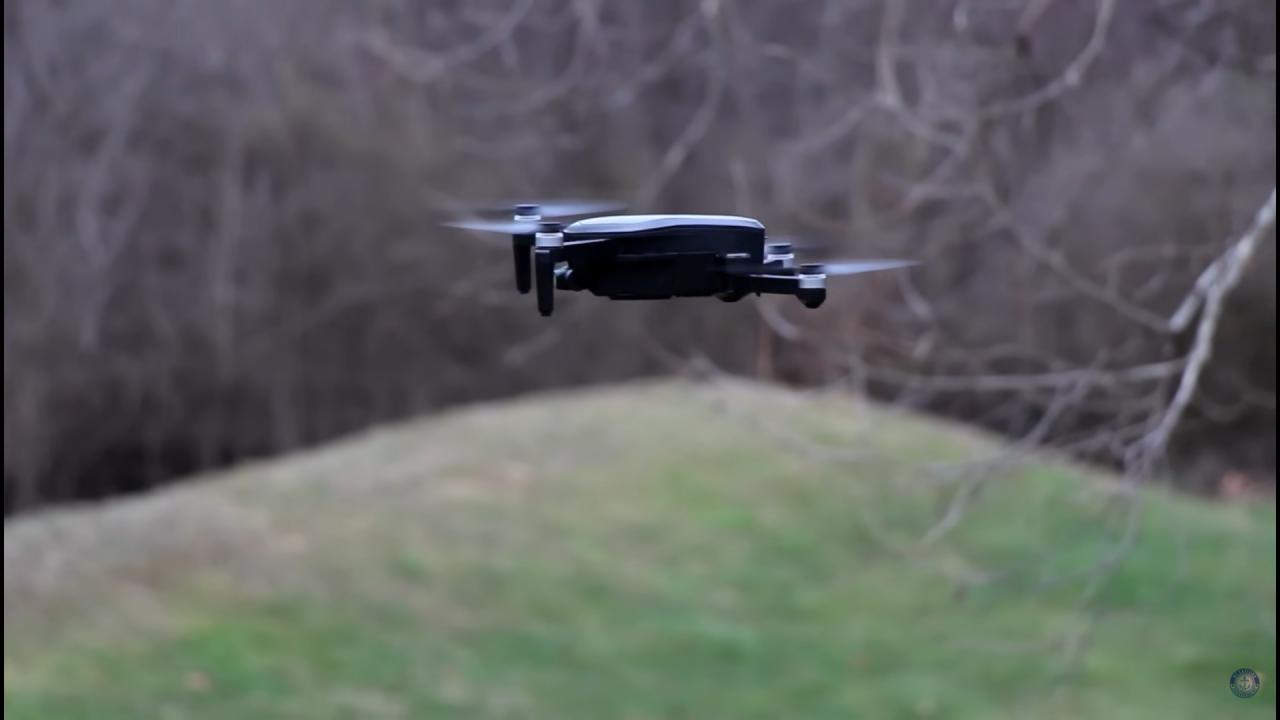Drone: (416, 167, 931, 357)
